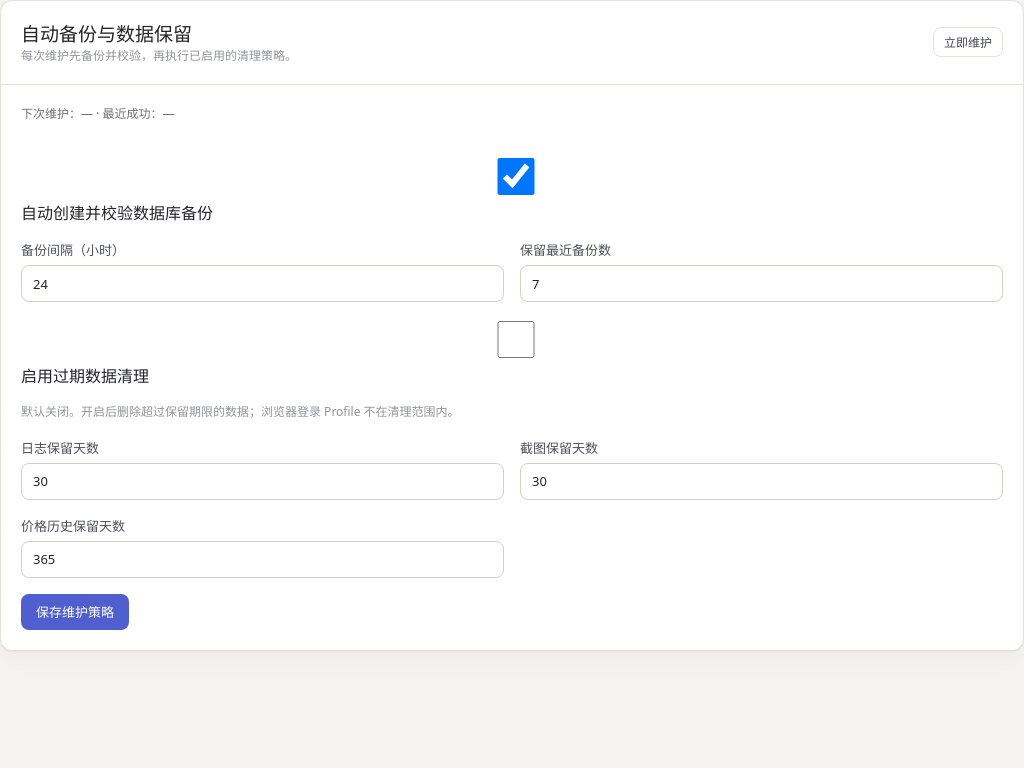
Test: maintenance settings › shows verification and cleanup counts from manual maintenance and refreshes the backup list
Click the button "立即维护": (968, 42) [933,27,1003,57]
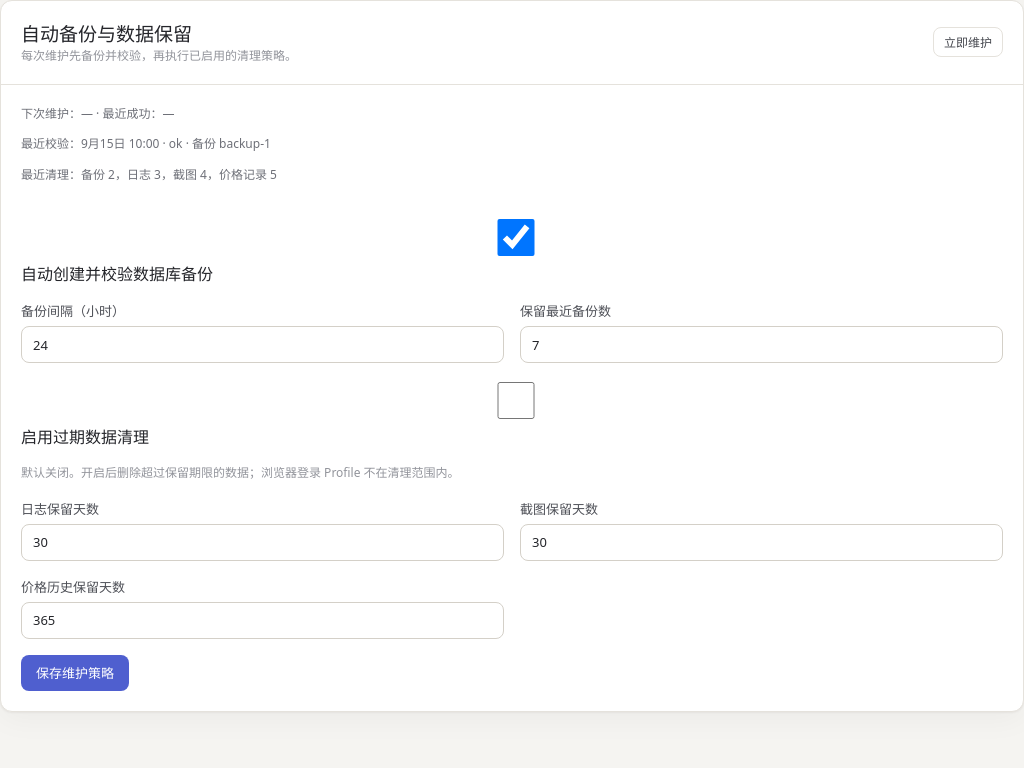
Check: the text "备份 2，日志 3，截图 4，价格记录 5" is shown, box [21,166,277,183]
